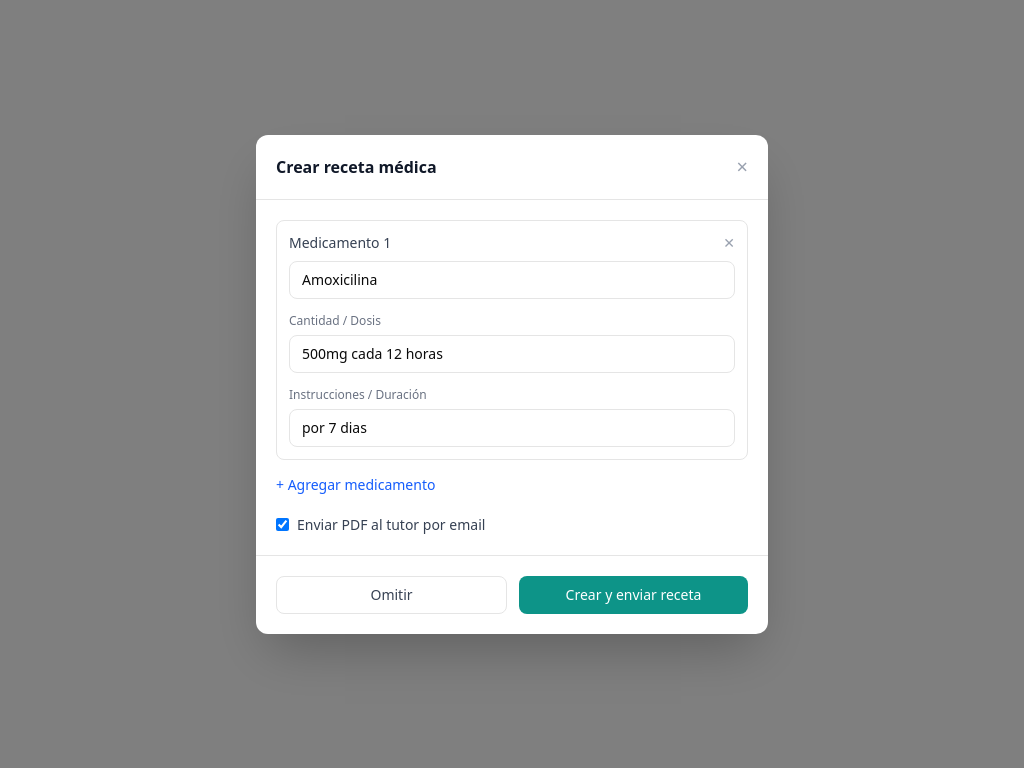
error de API muestra mensaje de error y modal permanece abierto
Click the button "Crear y enviar receta" at (634, 594), box [519,576,748,614]
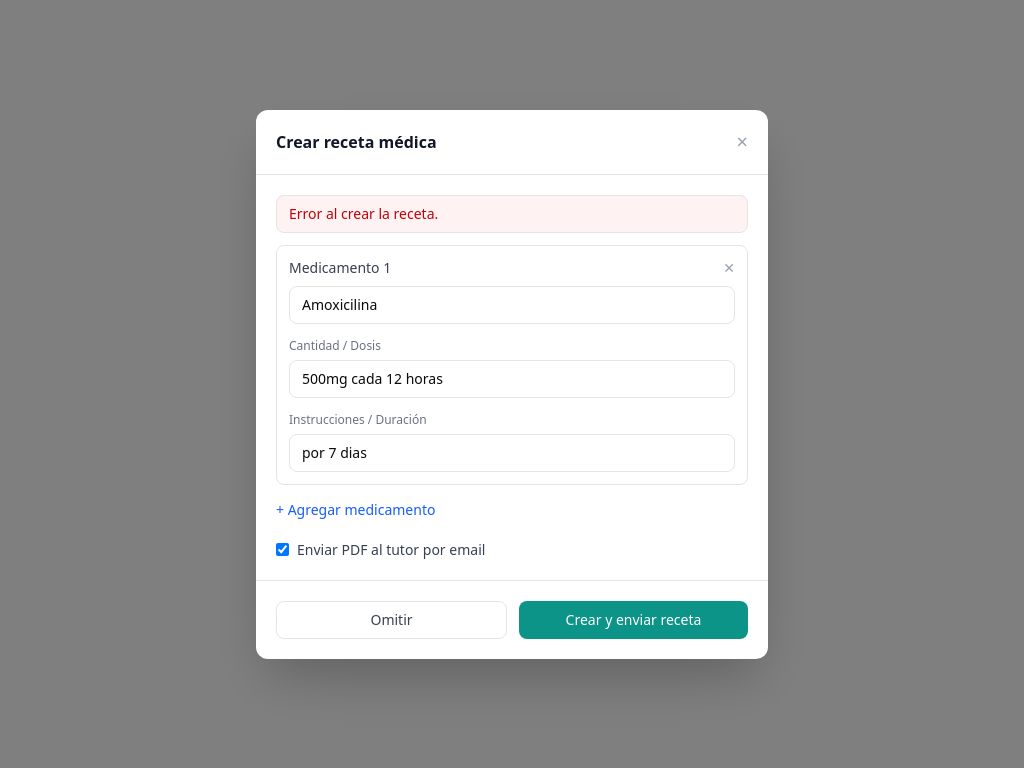
Check: the text "Error al crear la receta." is shown, box [276,194,748,232]
